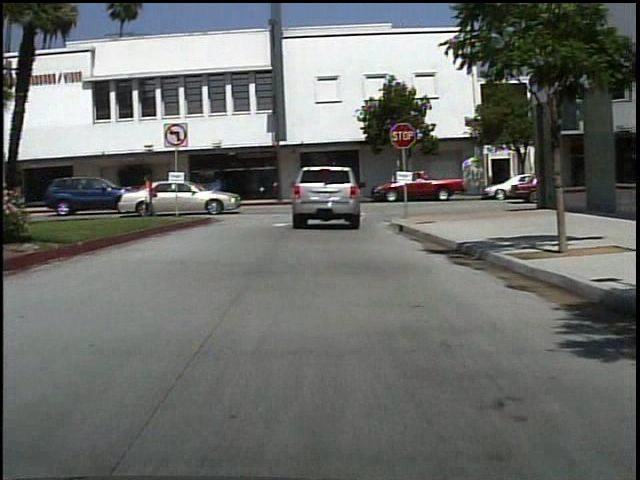person: (333, 168, 360, 227), (138, 173, 169, 220), (207, 173, 223, 204)
